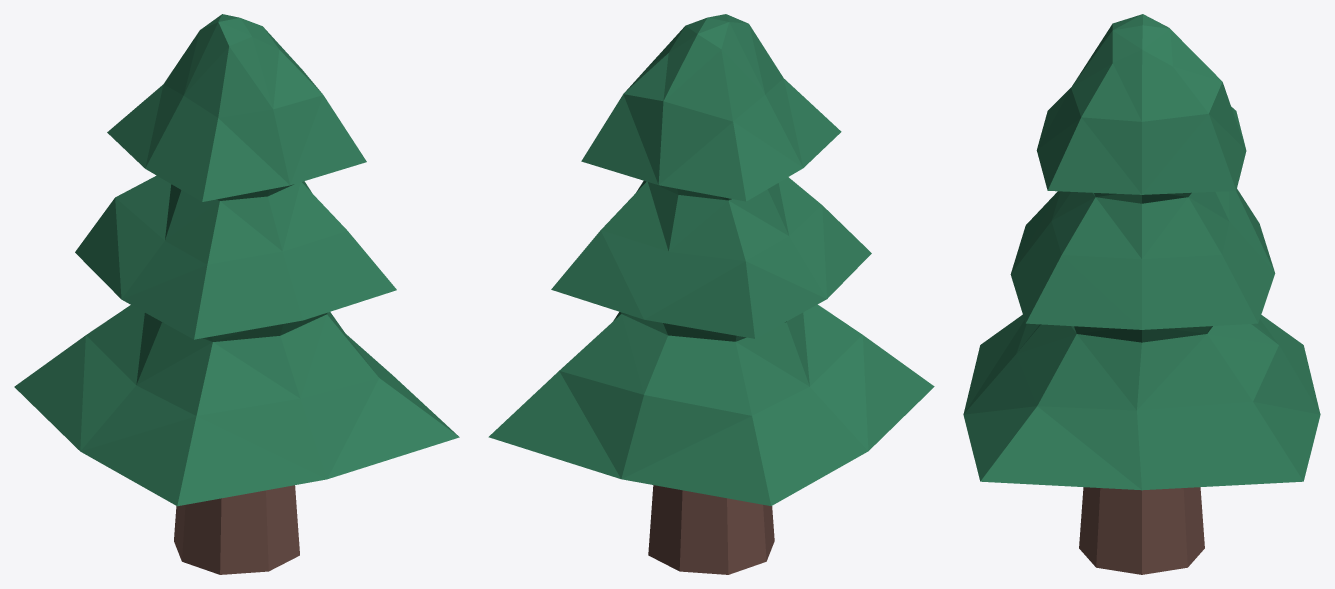
Rendered from drzewo_6.fbx.
The picture shows the model from 3 angles, left to right: view 1: azimuth 30°, elevation 25°; view 2: azimuth 150°, elevation 25°; view 3: azimuth 270°, elevation 25°; orthographic projection.
Parts seen in each view (by area): view 1: Cube.009; view 2: Cube.009; view 3: Cube.009.
Boxes of the visible parts, x1,y1,x2,y2 form: Cube.009: (14, 14, 459, 574); Cube.009: (488, 14, 934, 574); Cube.009: (963, 14, 1320, 574).
Size of the model in its own units: 1309 by 2121 by 1306.
